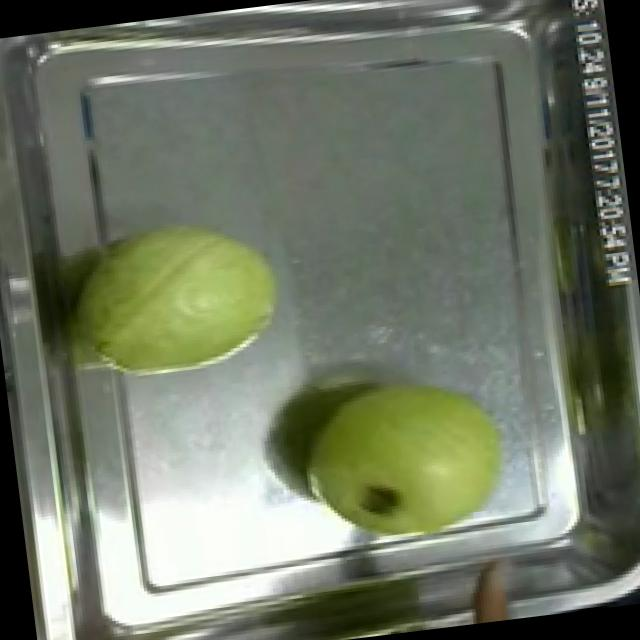Fruit: (282, 356, 524, 568), (60, 200, 297, 394)
